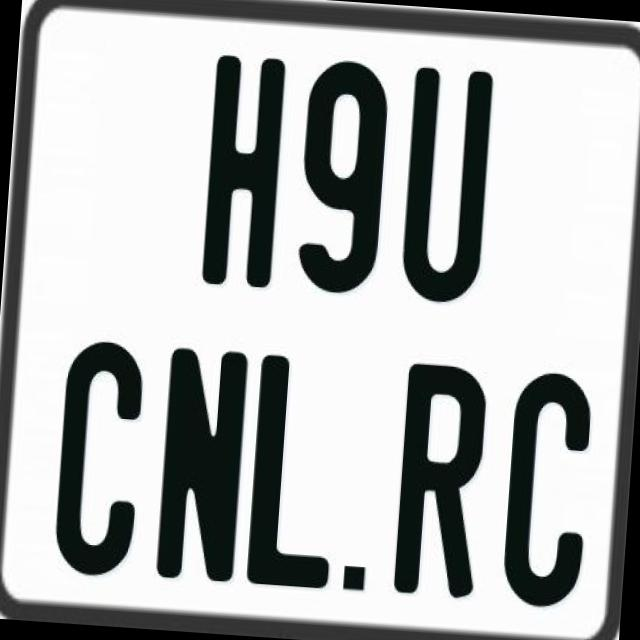9: (294, 56, 398, 294)
C: (497, 366, 597, 606), (51, 334, 145, 574)
H: (197, 54, 280, 297)
L: (244, 354, 346, 598)
N: (154, 348, 254, 592)
R: (393, 362, 490, 598)
U: (397, 67, 491, 313)
